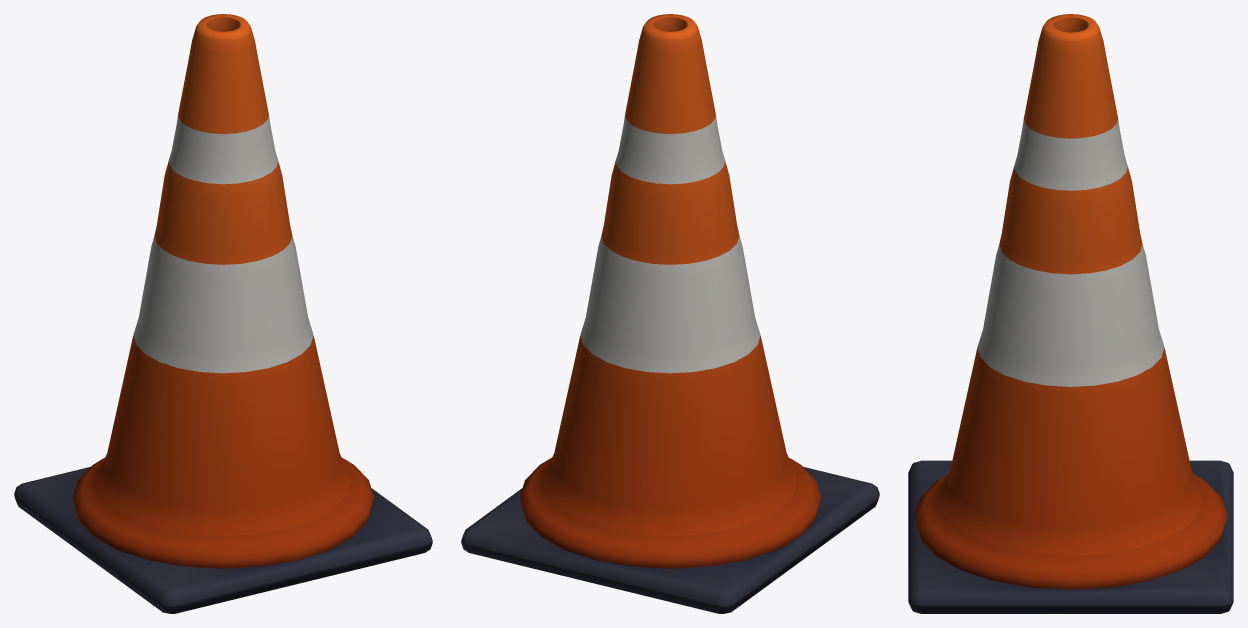
3 renders of one model, left to right at view 1: azimuth 30°, elevation 25°; view 2: azimuth 150°, elevation 25°; view 3: azimuth 270°, elevation 25°, orthographic. The views are drawn at different scales.
Visible parts, largest first — view 1: cone; view 2: cone; view 3: cone.
Part boxes in pixels (box(x1,y1,x2,y2)): cone: box(14, 14, 432, 613); cone: box(461, 14, 879, 613); cone: box(908, 14, 1233, 613).
Bounding box in the file's own units: 0.4 × 0.712 × 0.4.
